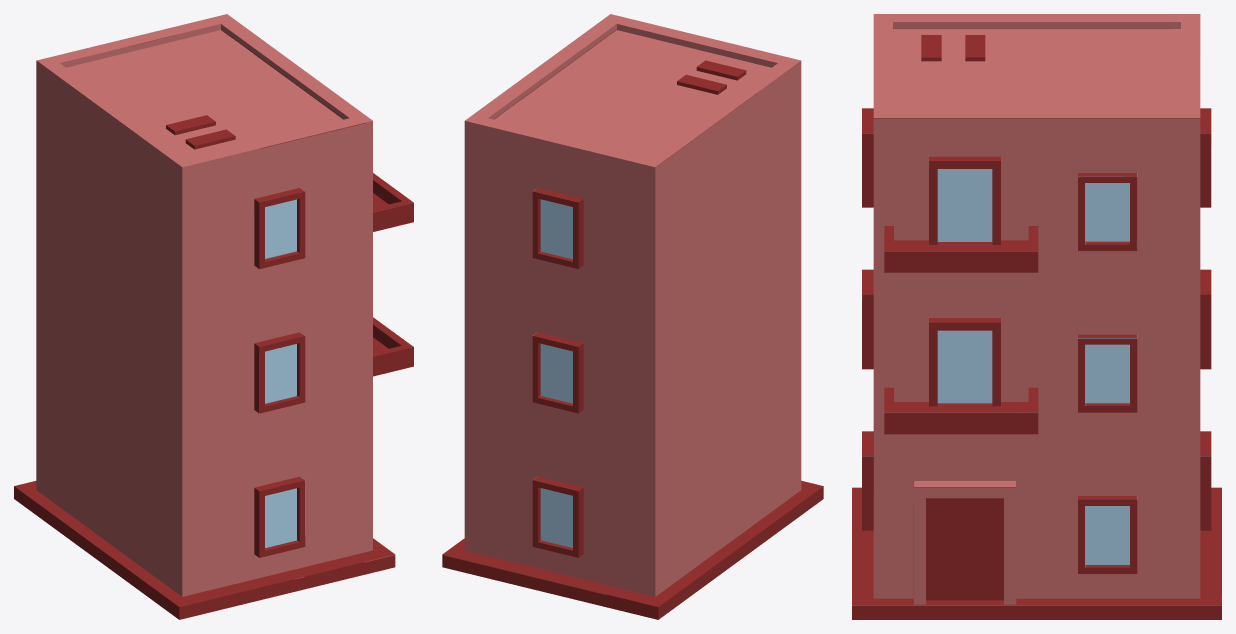
File: apartament_red.fbx
3 views of the same model, side by side, from view 1: azimuth 30°, elevation 25°; view 2: azimuth 150°, elevation 25°; view 3: azimuth 270°, elevation 25° (orthographic). The views are drawn at different scales.
Parts seen in each view (by area): view 1: apartament; view 2: apartament; view 3: apartament.
Part boxes in pixels (left/top/right/bottom): apartament: left=14, top=14, right=413, bottom=619; apartament: left=442, top=14, right=823, bottom=619; apartament: left=852, top=14, right=1221, bottom=619.
Size of the model in its own units: 629 by 1068 by 723.
1 material, 1 textured.
